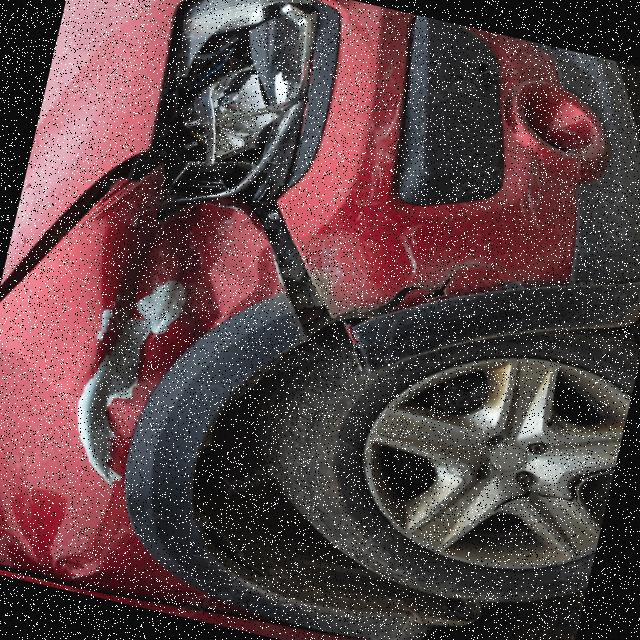Head Light: (33, 0, 506, 381)
